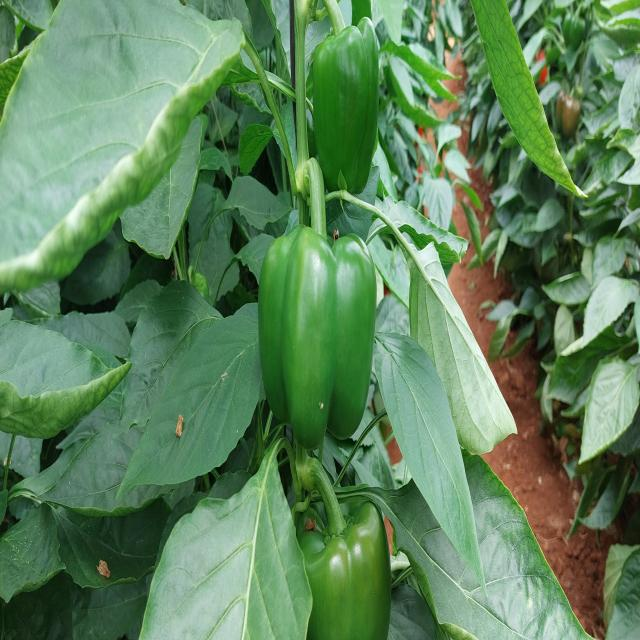Green--Not-ready-to-harvest: (257, 212, 376, 456), (296, 505, 391, 637), (313, 35, 381, 194)
